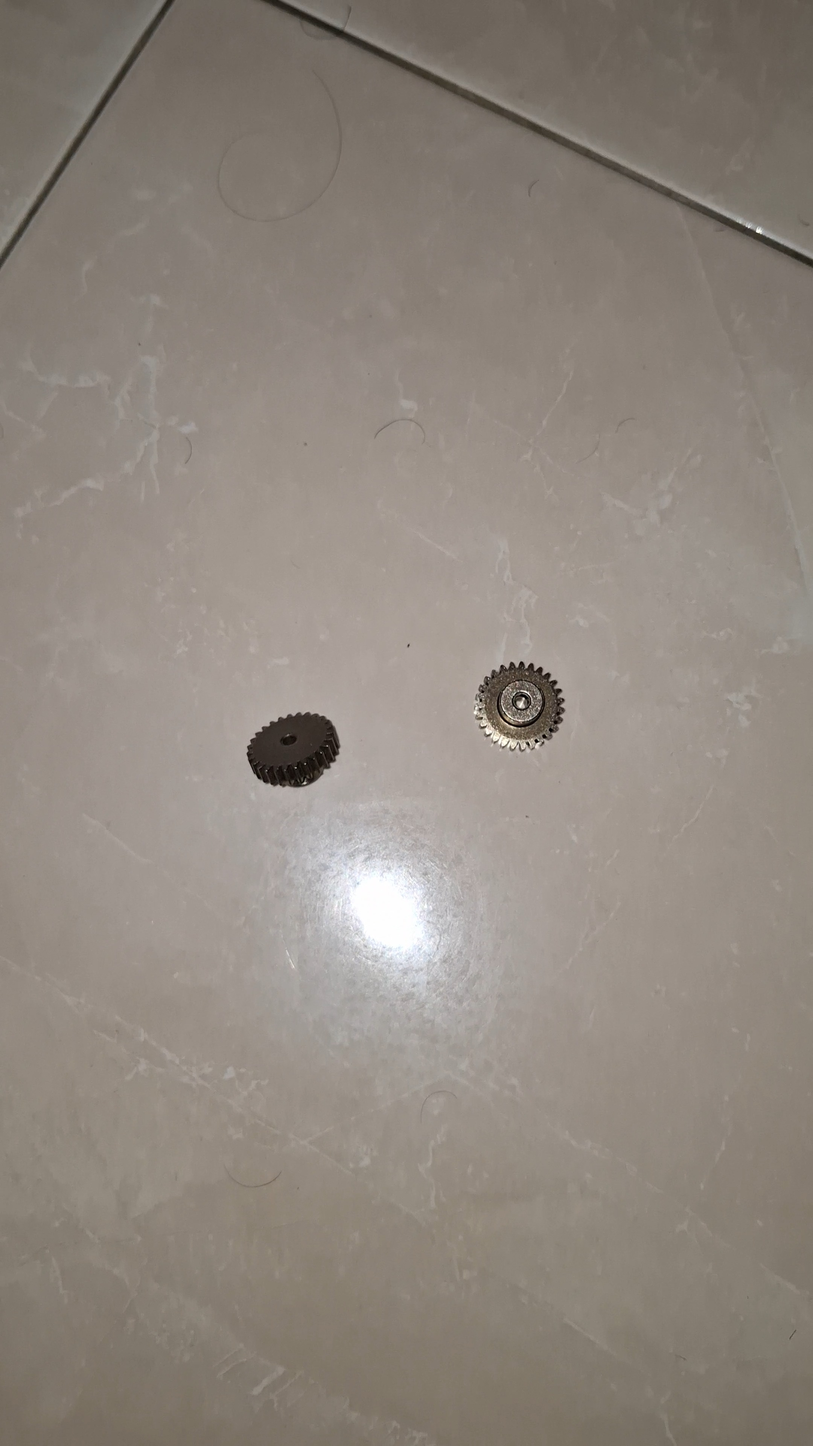spur gear: (474, 662, 563, 750), (247, 713, 338, 786)
